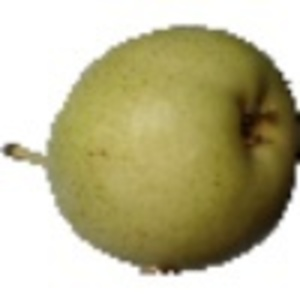pera: (3, 23, 300, 278)
